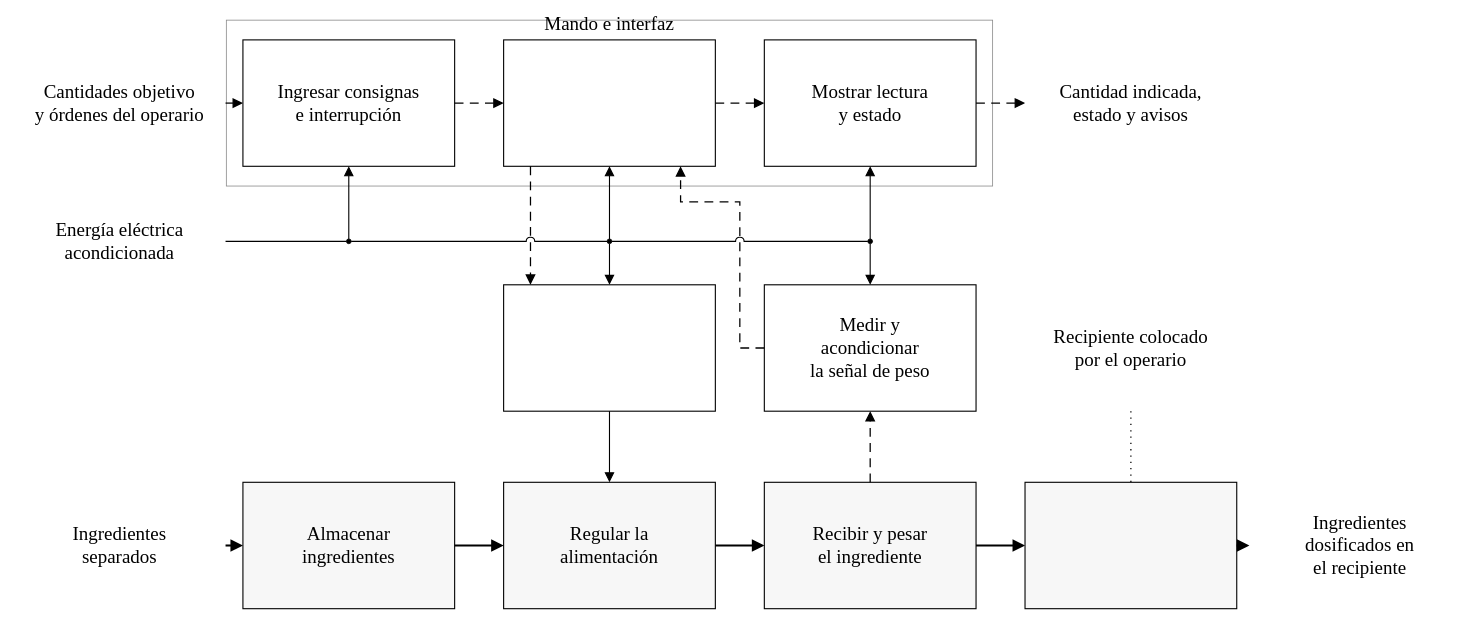
Some shapes in this 1484 by 623 pixel diagram are drawn without their labels. The shapes that lost their labels are listed below. From the top down, each one's centre as x and y in pixels, then its label:
At pixel 609 102: "Secuenciar y ordenar el corte".
At pixel 609 347: "Accionar el alimentador".
At pixel 1130 545: "Reunir las dosis en el recipiente".
